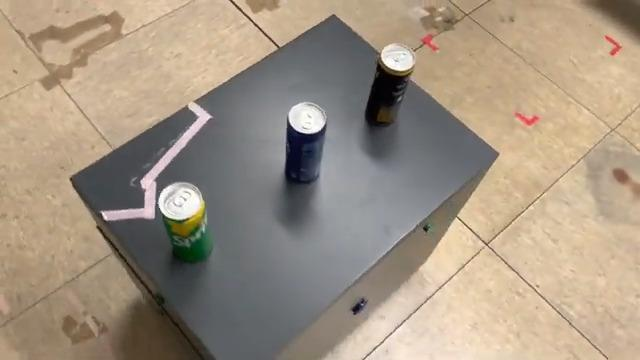OranSoda: (359, 40, 418, 134)
Pepsi: (281, 100, 331, 188)
Sprite: (156, 178, 218, 268)
